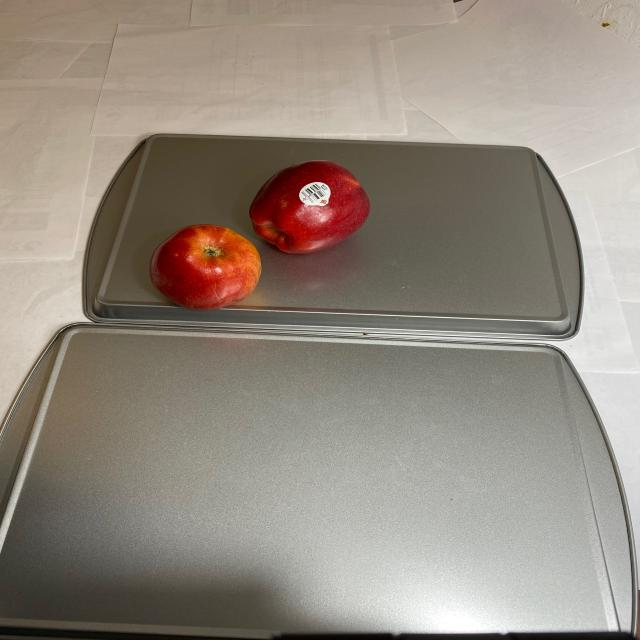Apple: (146, 159, 372, 311)
